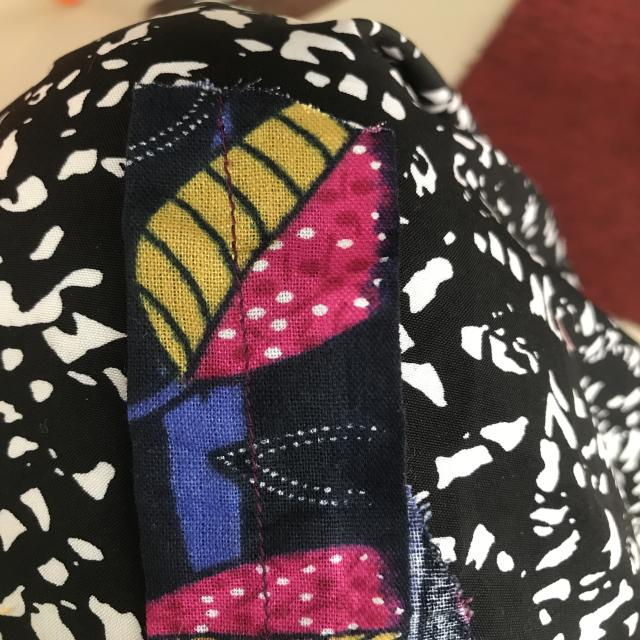good: (208, 170, 258, 360), (240, 493, 279, 547)
